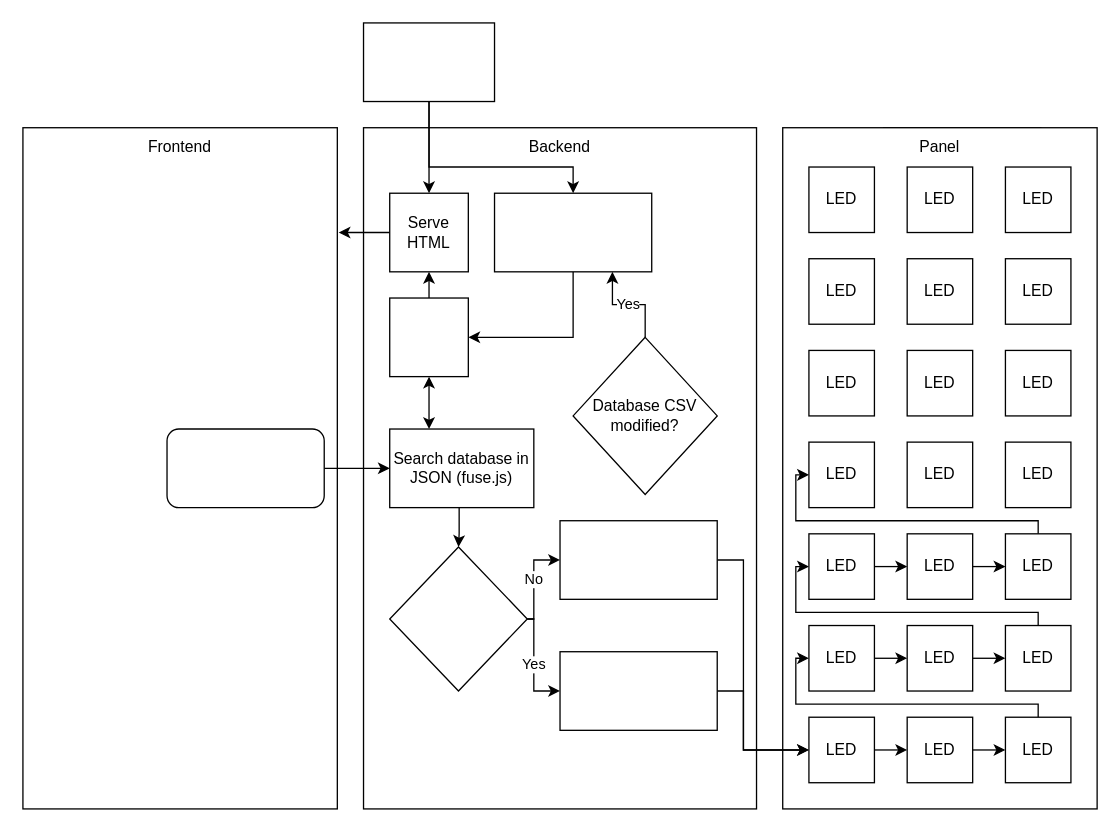
Image size: 1120x832. Some labels were removed from this diagram. Here are the shapes that lost their labels. From the top down, the centre of each, then its label:
At point (428, 62): "Startup".
At point (572, 232): "Convert datbase CSV to JSON".
At point (428, 337): "Import Database".
At point (245, 468): "Data from Frontend".
At point (638, 559): "View all components with search term".
At point (457, 618): "Chosen Component".
At point (638, 690): "Show chosen component".
